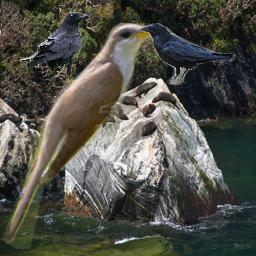Crow: (137, 23, 236, 86), (19, 12, 90, 81)
Cuckoo: (0, 23, 163, 249)
